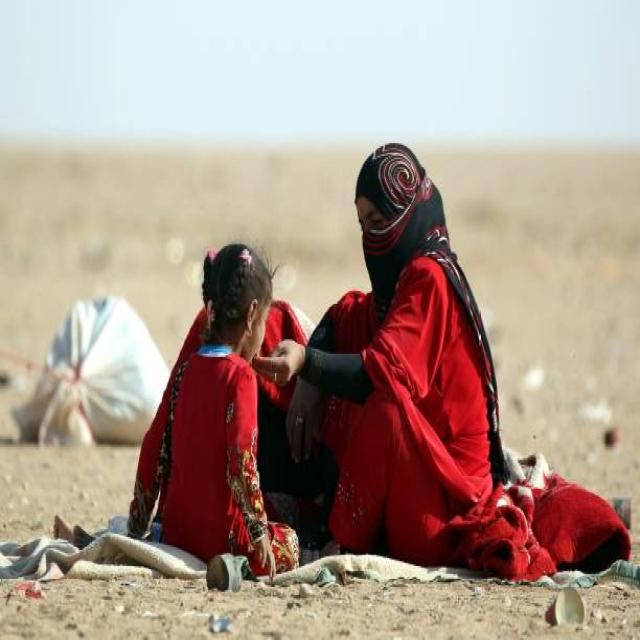civilian: (257, 145, 630, 579), (128, 243, 298, 574)
